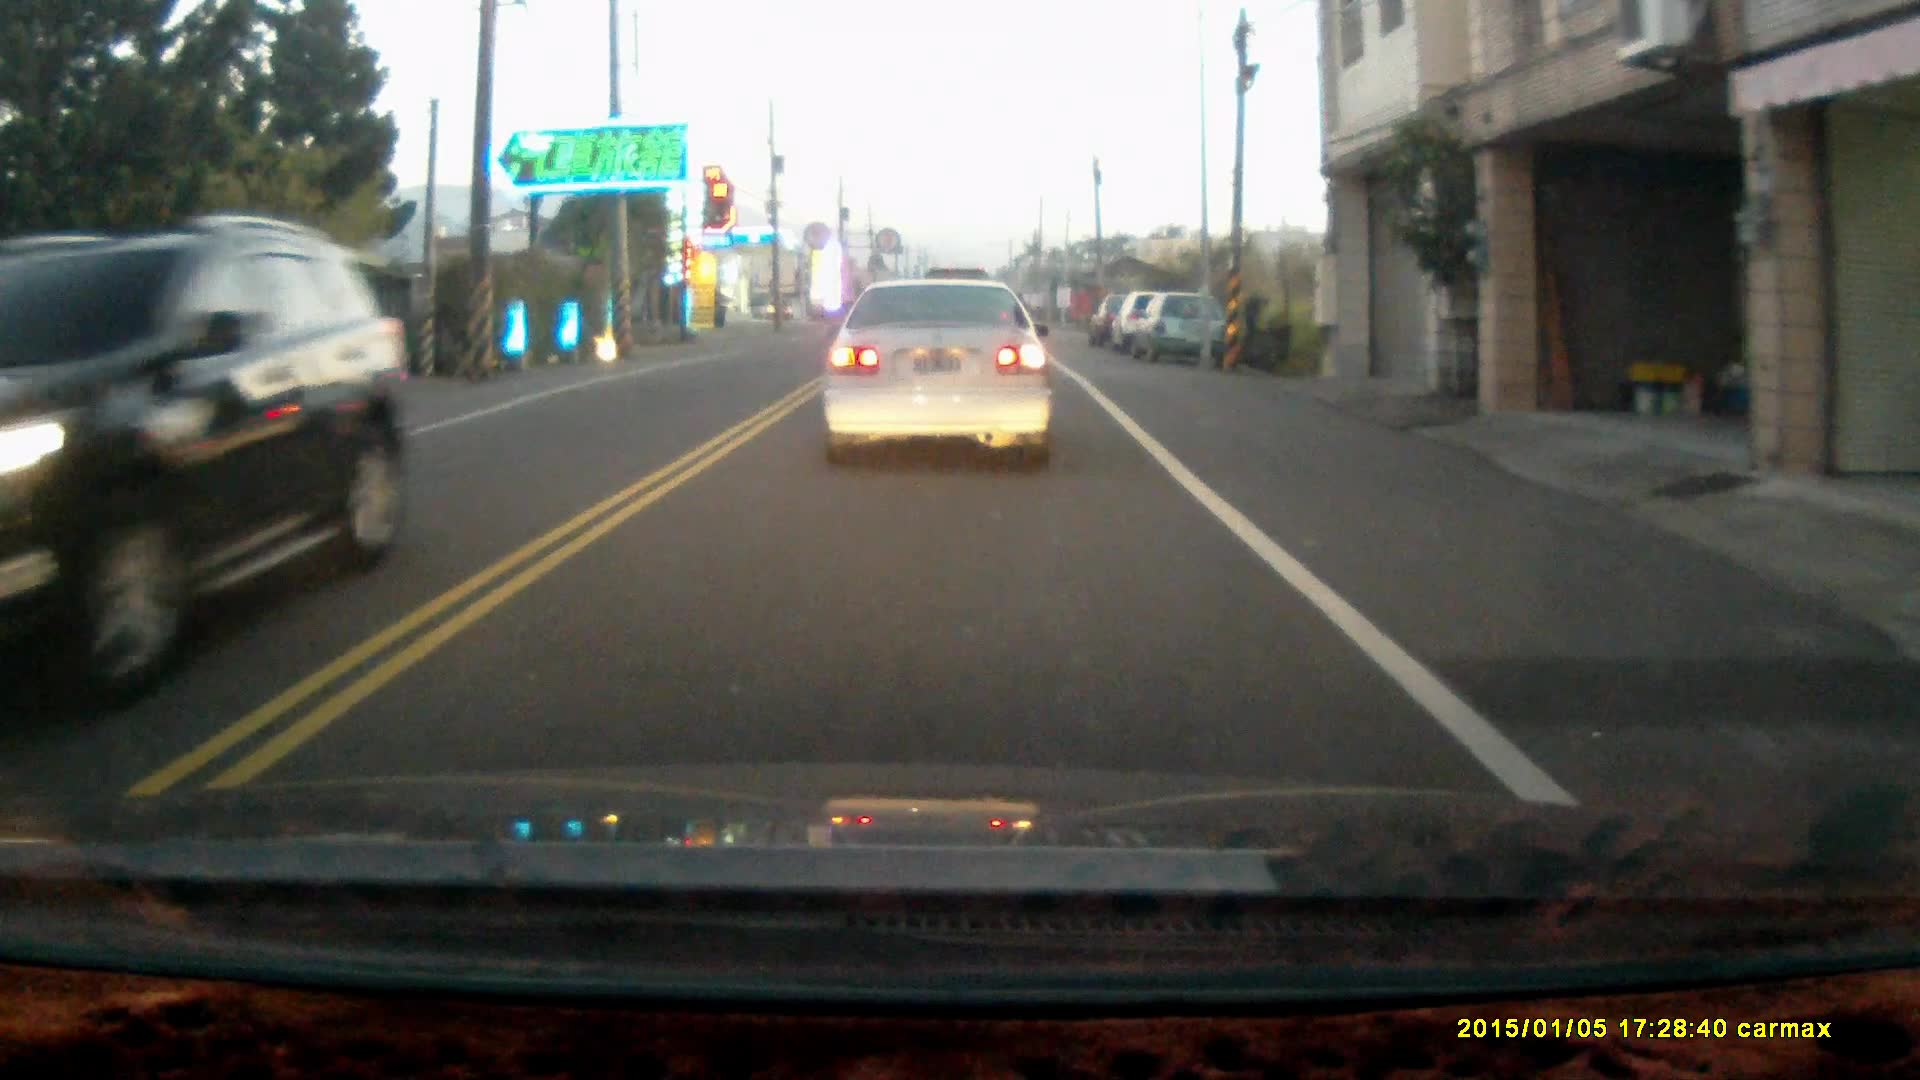vehicle: (1, 215, 417, 705), (819, 278, 1052, 468), (1127, 293, 1225, 365), (1116, 293, 1197, 351)
